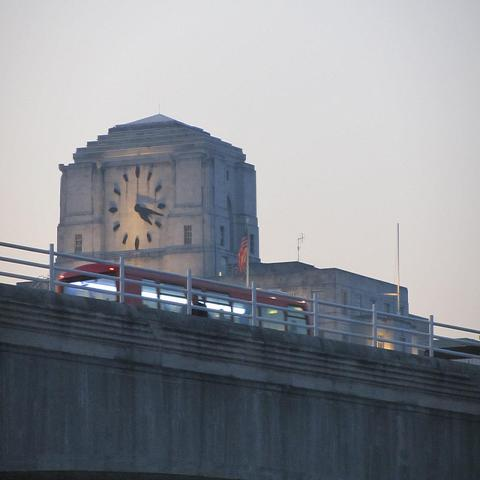bus: (56, 264, 316, 338)
